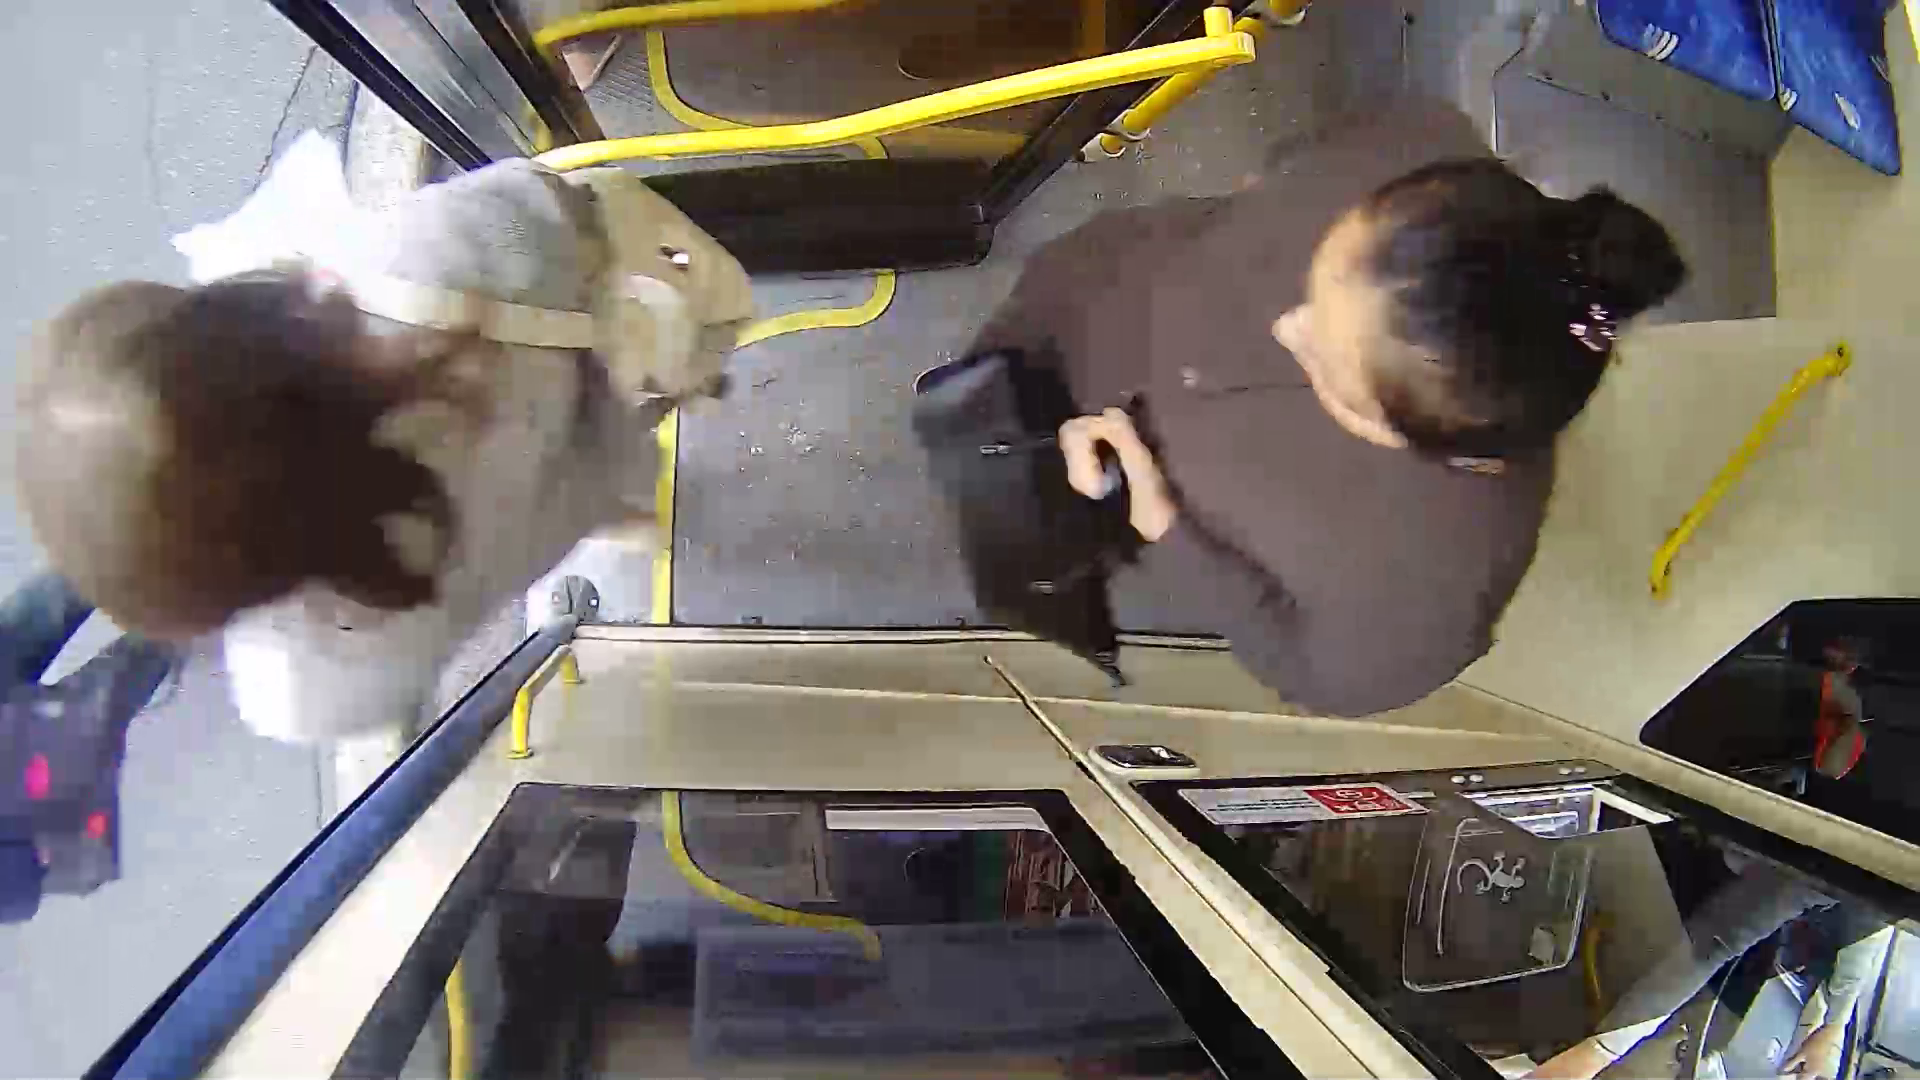person: (50, 142, 715, 723), (979, 140, 1655, 663)
